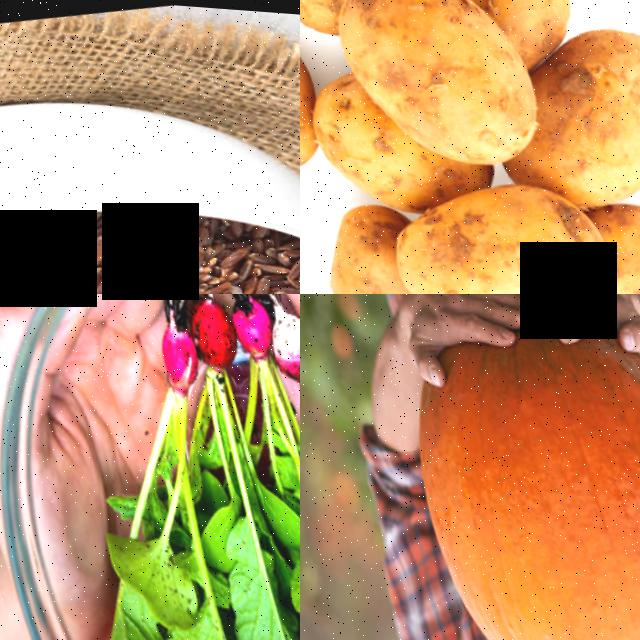potato: (321, 0, 548, 182), (371, 157, 613, 294), (500, 2, 640, 207), (300, 195, 432, 294), (460, 0, 586, 55), (591, 179, 640, 294)
pumpkin: (386, 311, 640, 640)
radishes: (124, 294, 300, 496)
red rice: (0, 156, 300, 294)
